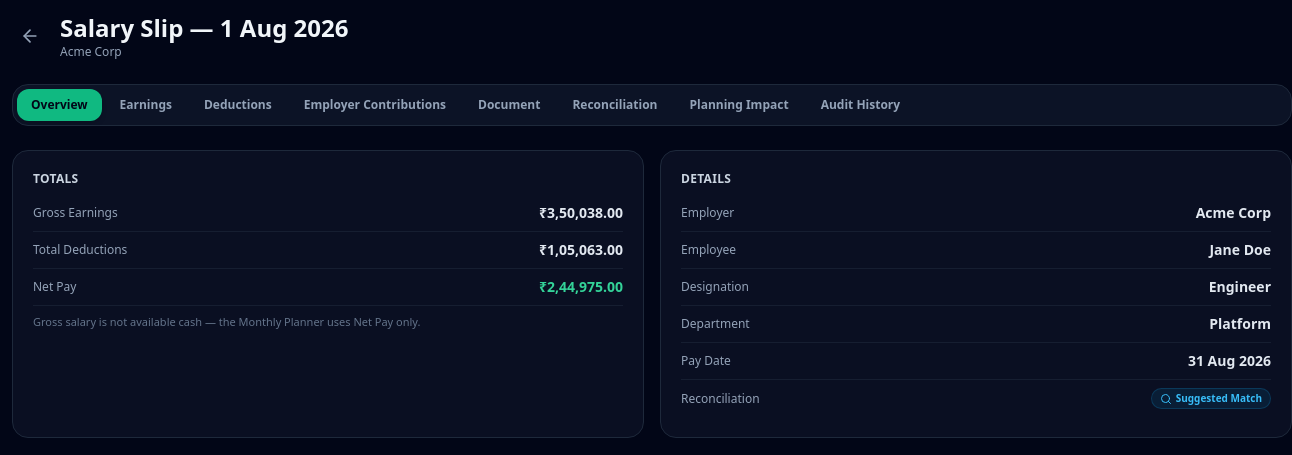
Test: SalarySlipDetail › Reconciliation tab › shows a suggested candidate with amount/date/account, labeled Suggested Match only when the backend actually promoted it
Click the tab "Reconciliation".
click(615, 105)  # box [558,89,672,121]
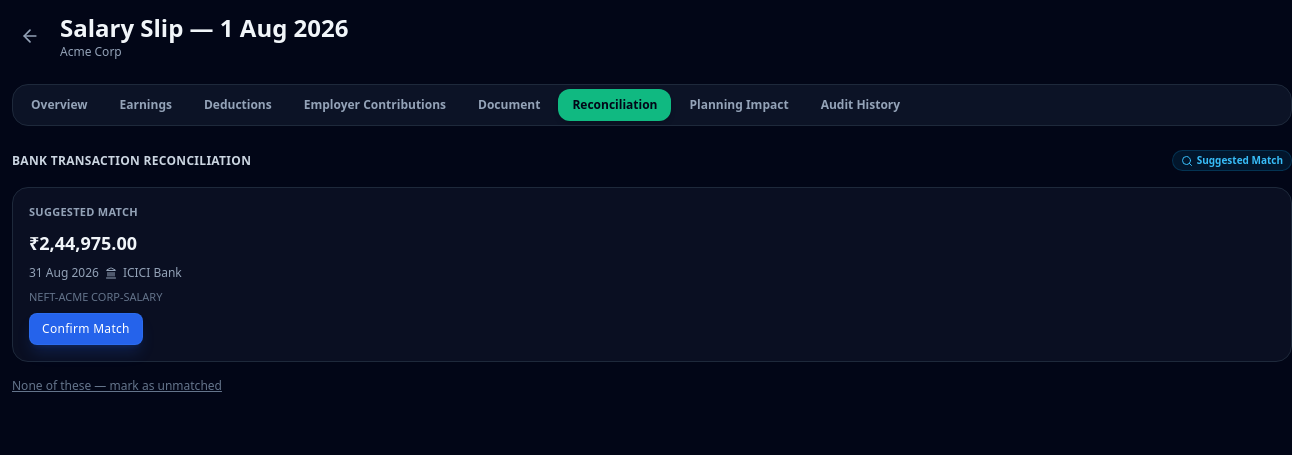
Expected: the text "Suggested Match" is shown, [1172,150,1291,171]
Expected: the text "ICICI Bank" is shown, [123,264,182,280]
Expected: the button "Confirm Match" is shown, [29,313,143,345]
